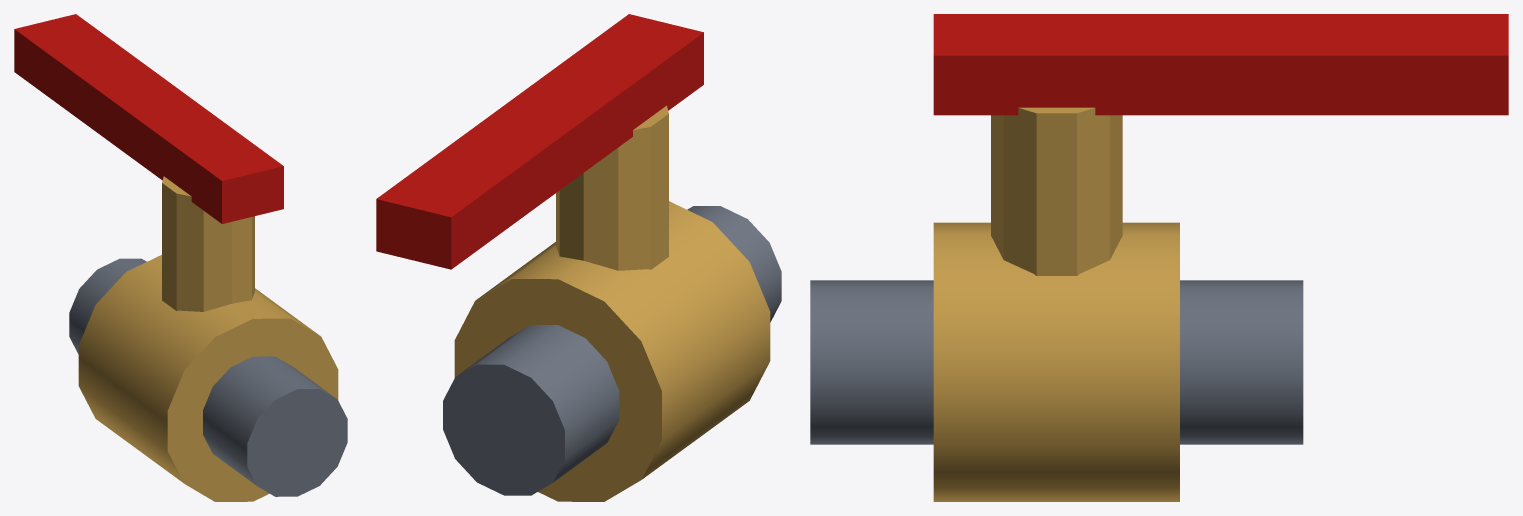
The model's file is services.pipe.valve_54.glb.
The picture shows the model from 3 angles, left to right: view 1: azimuth 30°, elevation 25°; view 2: azimuth 150°, elevation 25°; view 3: azimuth 270°, elevation 25°; orthographic projection. The views are drawn at different scales.
Parts seen in each view (by area): view 1: main__brass, main__plastic_red, main__steel_painted; view 2: main__brass, main__plastic_red, main__steel_painted; view 3: main__brass, main__plastic_red, main__steel_painted.
Part boxes in pixels (left/top/right/bottom): main__brass: left=78, top=176, right=338, bottom=501; main__plastic_red: left=14, top=14, right=283, bottom=223; main__steel_painted: left=69, top=258, right=347, bottom=496; main__brass: left=454, top=105, right=770, bottom=501; main__plastic_red: left=376, top=14, right=703, bottom=269; main__steel_painted: left=443, top=206, right=781, bottom=495; main__brass: left=933, top=107, right=1179, bottom=501; main__plastic_red: left=933, top=14, right=1508, bottom=115; main__steel_painted: left=810, top=280, right=1303, bottom=444.
Bounding box in the file's own units: 0.0895 × 0.1647 × 0.2295.
